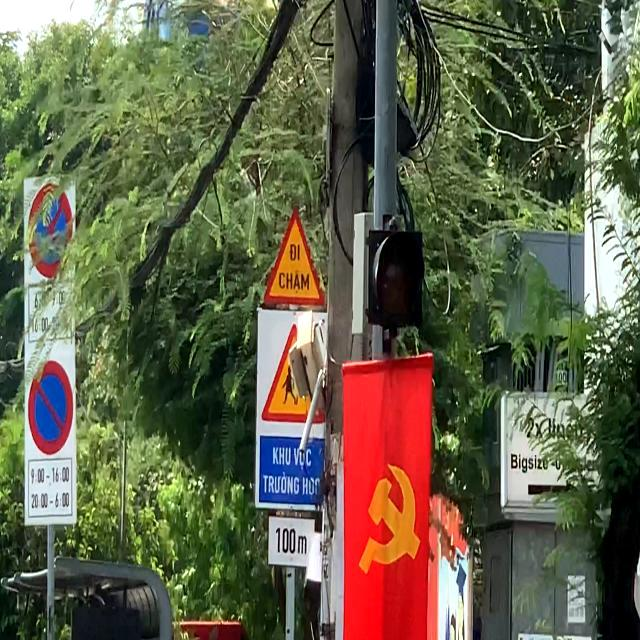Cam do xe: (28, 360, 74, 456)
Cam dung xe va do xe: (27, 182, 74, 280)
Di cham: (264, 207, 327, 305)
